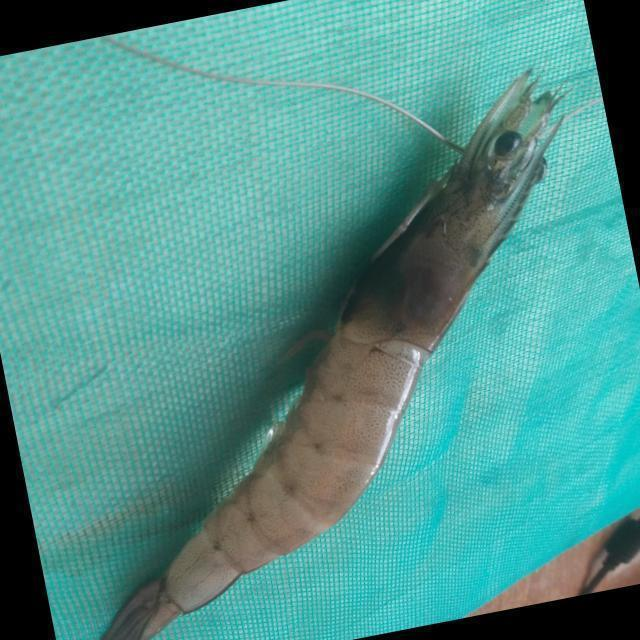shrimp: (103, 71, 567, 640)
